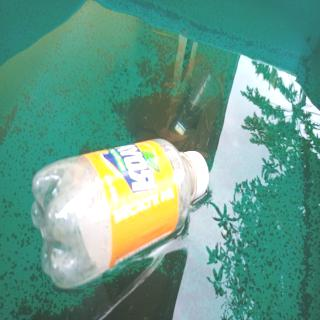bottle: (34, 138, 210, 289)
